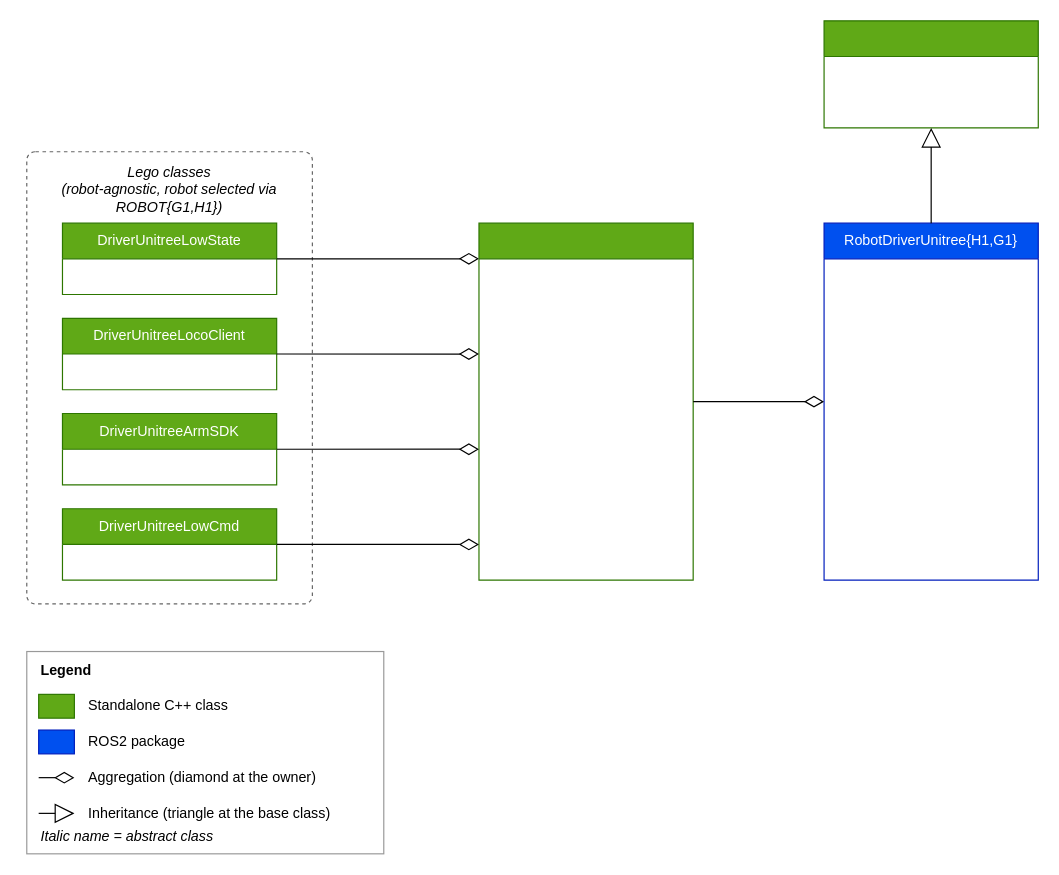
Some shapes in this 1059 by 875 pixel diagram are drawn without their labels. Here are the shapes that lost their labels. From the top down, the centre of each, then its label:
At point (930, 74): "LeggedRobotDriver".
At point (585, 401): "DriverUnitree{H1,G1}".
